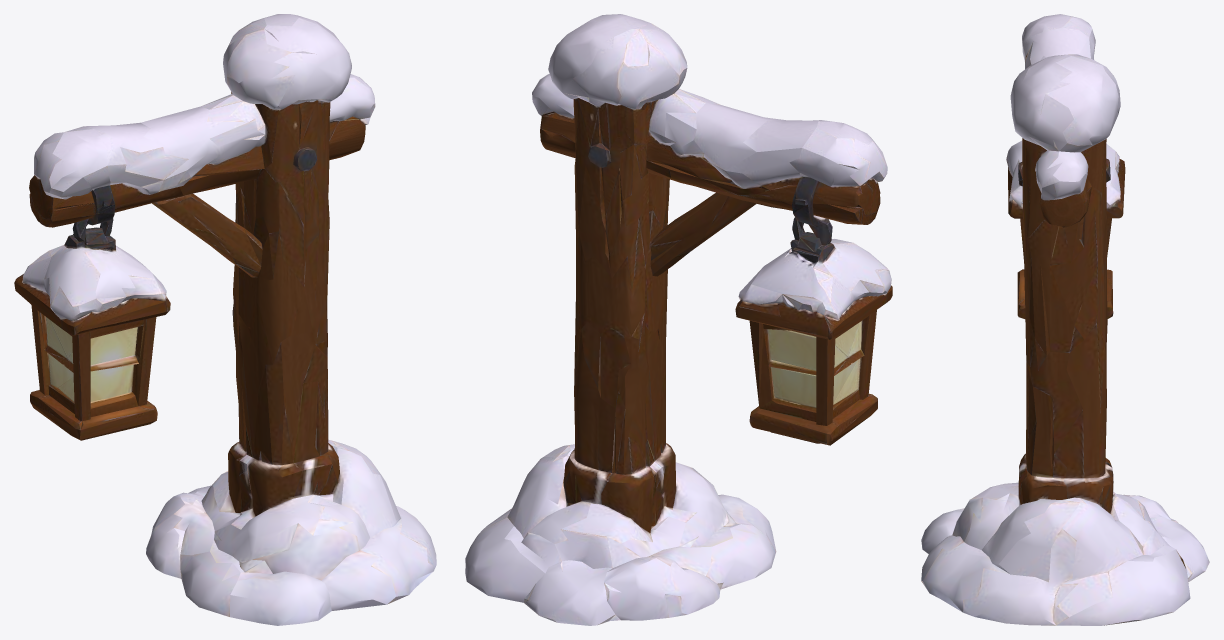
The model's file is lantern.glb.
The picture shows the model from 3 angles, left to right: view 1: azimuth 30°, elevation 25°; view 2: azimuth 150°, elevation 25°; view 3: azimuth 270°, elevation 25°; orthographic projection. The views are drawn at different scales.
Visible parts, largest first — view 1: output_unwrapped; view 2: output_unwrapped; view 3: output_unwrapped.
Part boxes in pixels (x1,y1,x2,y2): output_unwrapped: (14, 14, 436, 625); output_unwrapped: (465, 14, 892, 625); output_unwrapped: (921, 14, 1209, 625).
Bounding box in the file's own units: 1.4 × 1.9 × 0.9802.
1 material, 1 textured.
